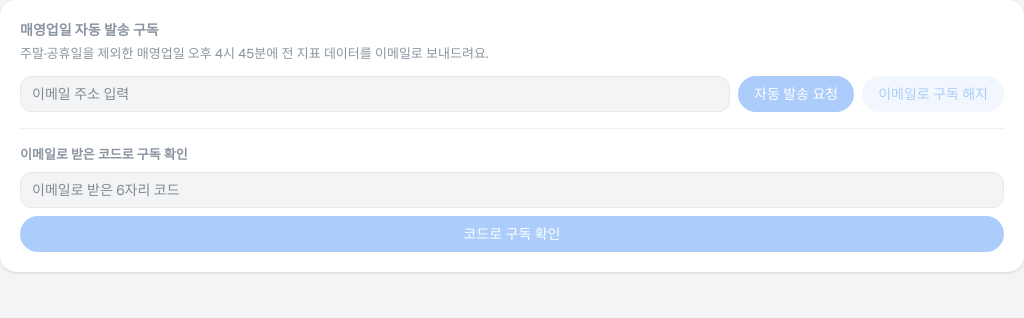
SubscribePanel › confirms via the fallback code form
Type "user@example.com" into the field labelled "이메일 주소" at (375,94), box [20,76,730,112]
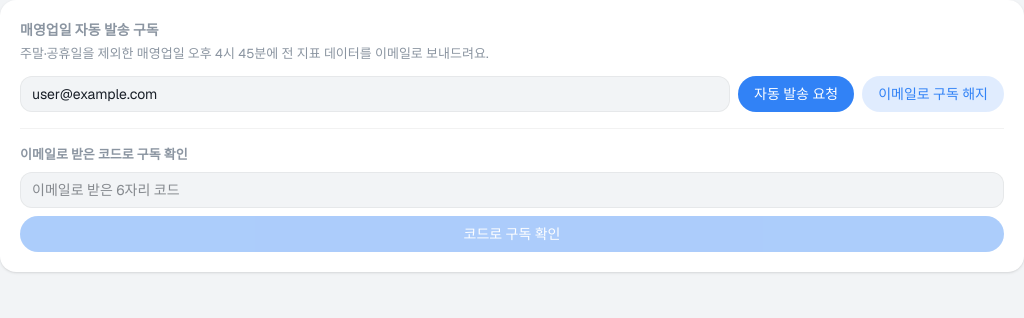
Type "123456" into the field named "확인 코드" at (512,190), box [20,172,1004,208]
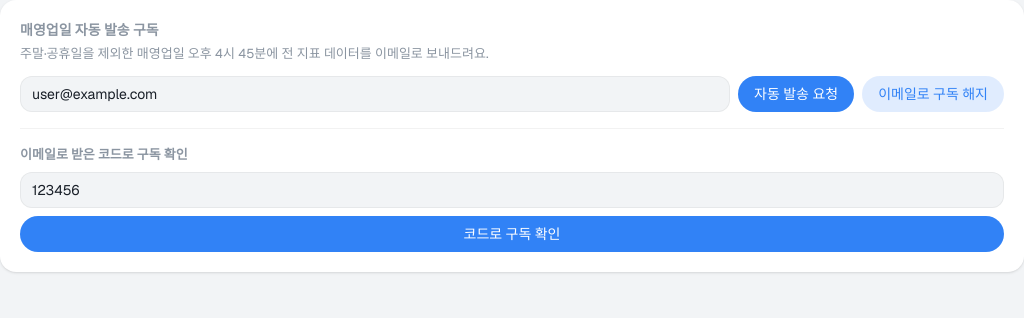
Click the button "코드로 구독 확인" at (512,234), box [20,216,1004,252]
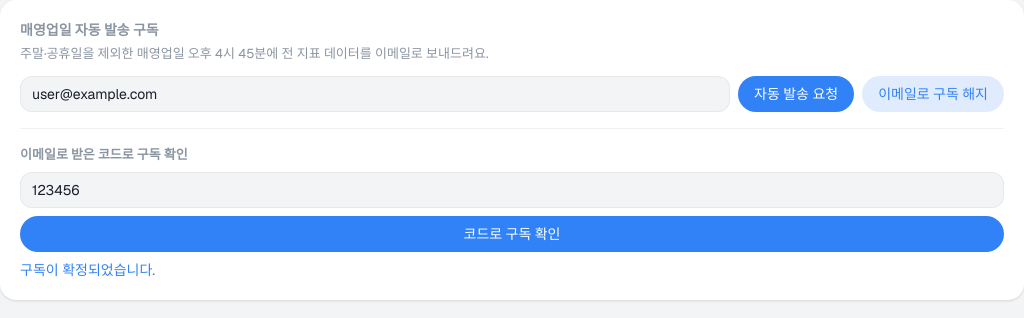
Expected: the text "구독이 확정되었습니다." is shown, [20,261,155,279]
